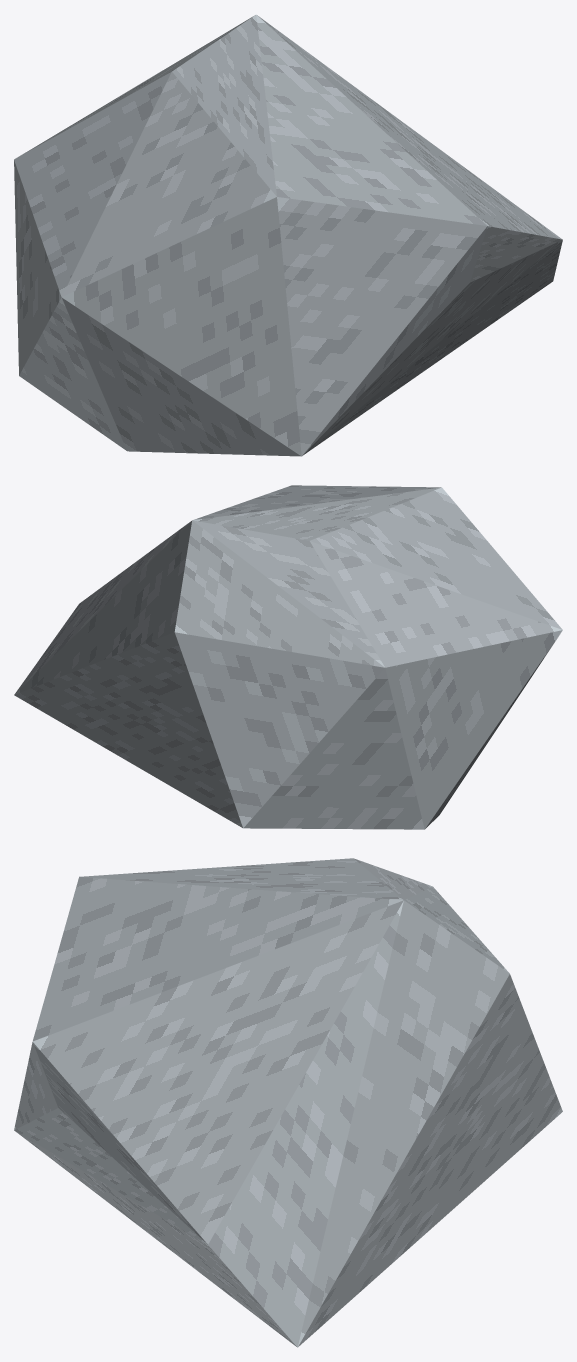
Rendered from hc_steel_chunk.glb.
The picture shows the model from 3 angles, top to bottom: view 1: azimuth 30°, elevation 25°; view 2: azimuth 150°, elevation 25°; view 3: azimuth 270°, elevation 25°; orthographic projection. The views are drawn at different scales.
Visible parts, largest first — view 1: block_irregular metal; view 2: block_irregular metal; view 3: block_irregular metal.
Boxes of the visible parts, x1,y1,x2,y2 form: block_irregular metal: [14, 14, 562, 456]; block_irregular metal: [14, 485, 562, 829]; block_irregular metal: [14, 858, 562, 1347].
Bounding box in the file's own units: 0.0716 × 0.0414 × 0.0569.
Materials: 1 (1 with a texture image).
